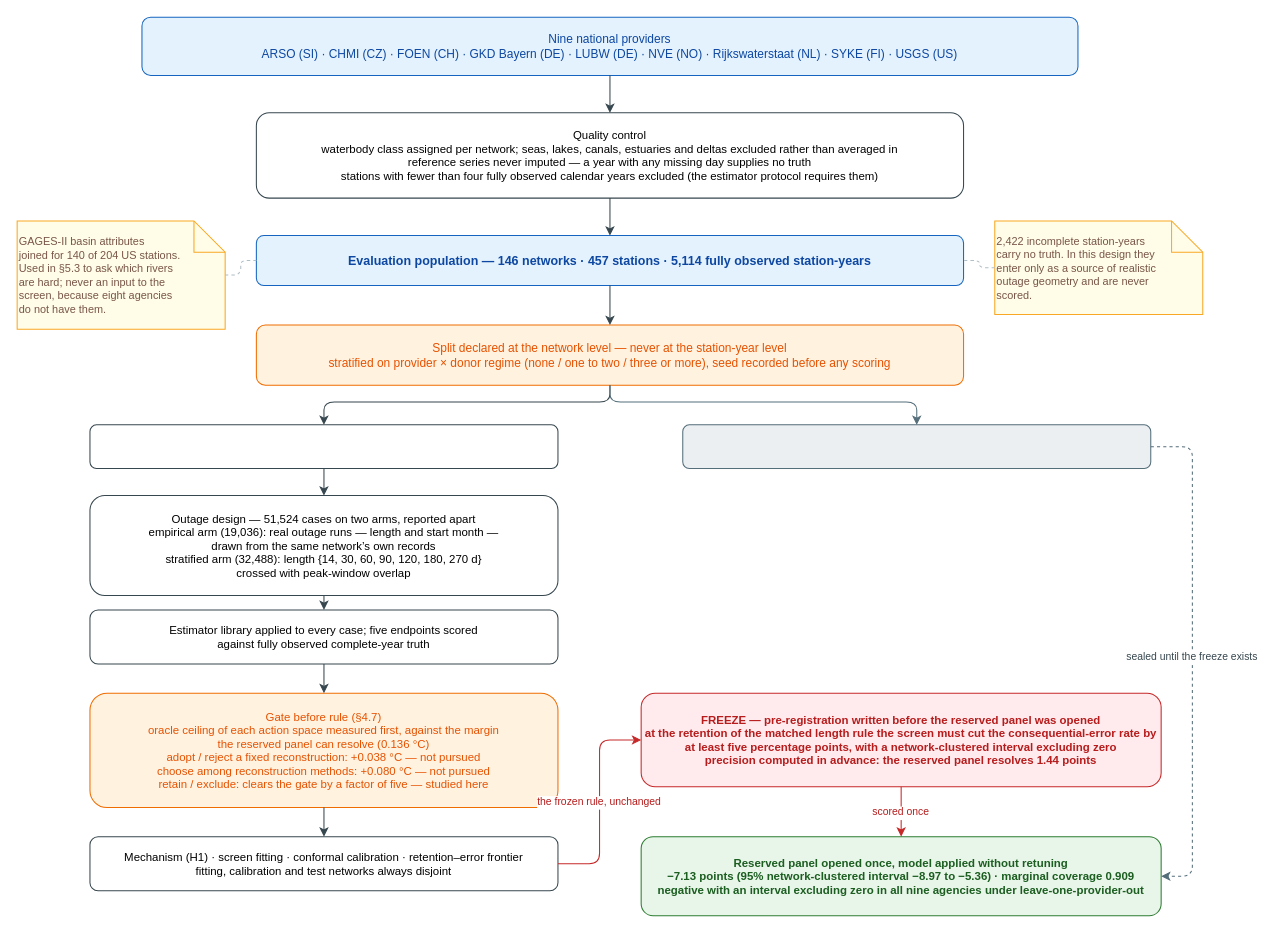
The diagram is 1277 pixels wide and 933 high, and some of its shapes have lost their labels. Here are the shapes that lost their labels. From the top down, the box of each, then its label:
(89, 424, 558, 469): 110 development networks
(682, 424, 1151, 469): 36 reserved networks — sealed
